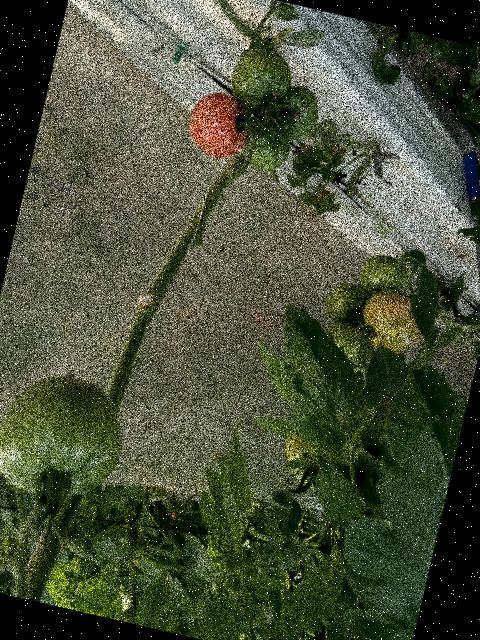b_green: (0, 363, 135, 512), (223, 43, 297, 121), (256, 78, 324, 145), (313, 316, 378, 375), (238, 115, 295, 176), (355, 249, 415, 303), (322, 277, 374, 329)
b_half_ripened: (354, 284, 428, 361), (183, 87, 256, 163)
